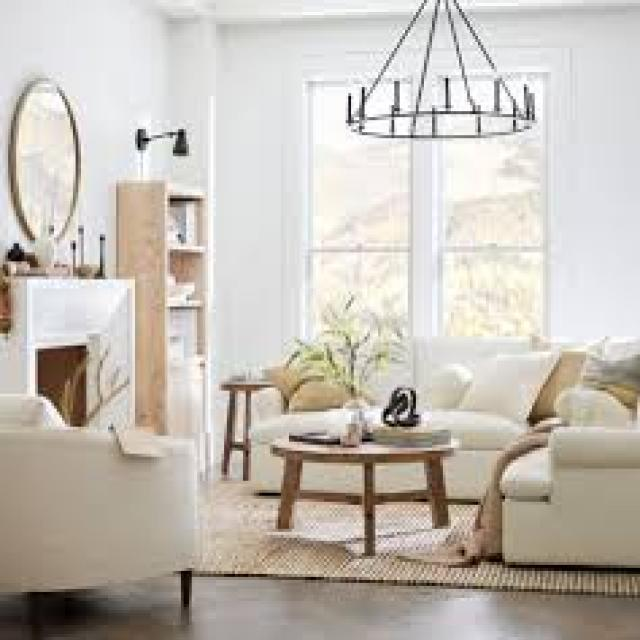Chair: (0, 407, 198, 616)
Lamp: (348, 0, 551, 153), (127, 120, 195, 164)
Sofa: (250, 359, 640, 565)
Table: (276, 430, 453, 561)
